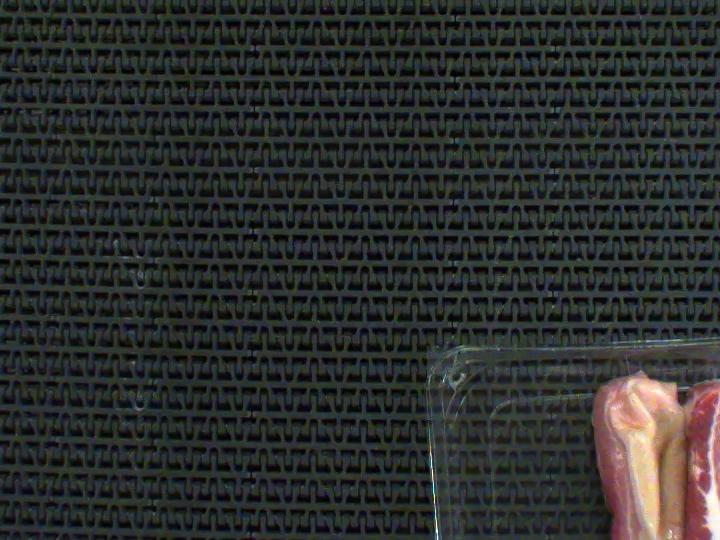twisted-meat: (591, 381, 720, 540)
